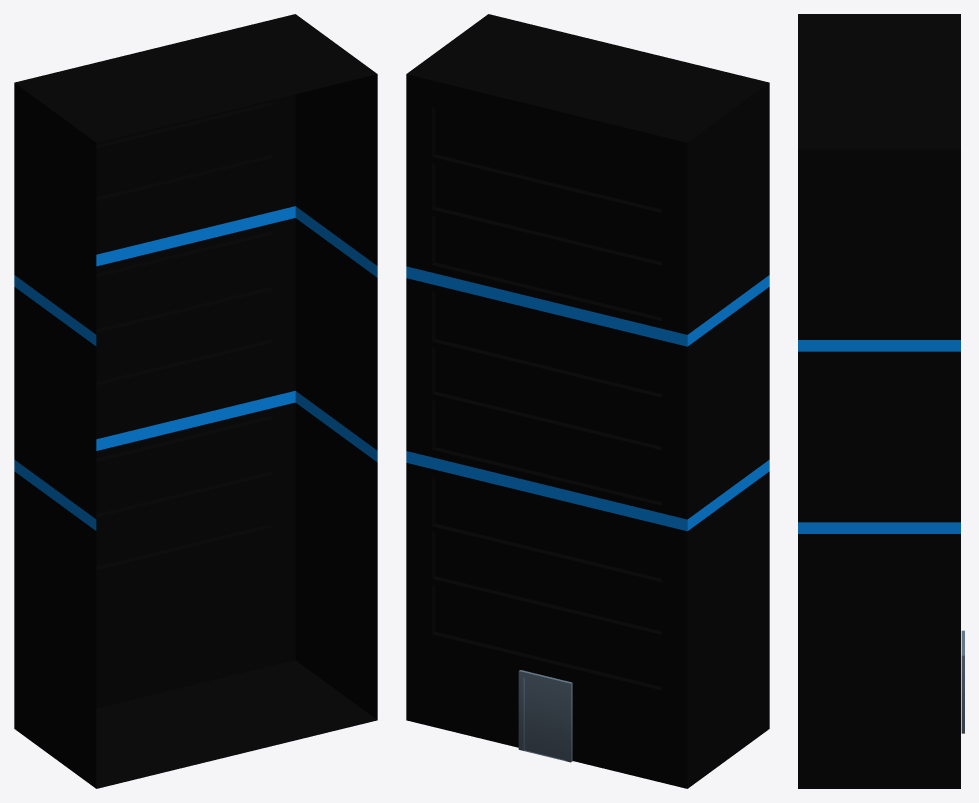
The model's file is Ciudad_Edificio_09.FBX.
3 renders of one model, left to right at view 1: azimuth 30°, elevation 25°; view 2: azimuth 150°, elevation 25°; view 3: azimuth 270°, elevation 25°, orthographic.
Visible parts, largest first — view 1: Ciudad_Edificio_09; view 2: Ciudad_Edificio_09; view 3: Ciudad_Edificio_09.
Part boxes in pixels (x1,y1,x2,y2): Ciudad_Edificio_09: [14, 14, 377, 788]; Ciudad_Edificio_09: [406, 14, 769, 788]; Ciudad_Edificio_09: [798, 14, 964, 788].
Size of the model in its own units: 1000 by 519 by 2195.
